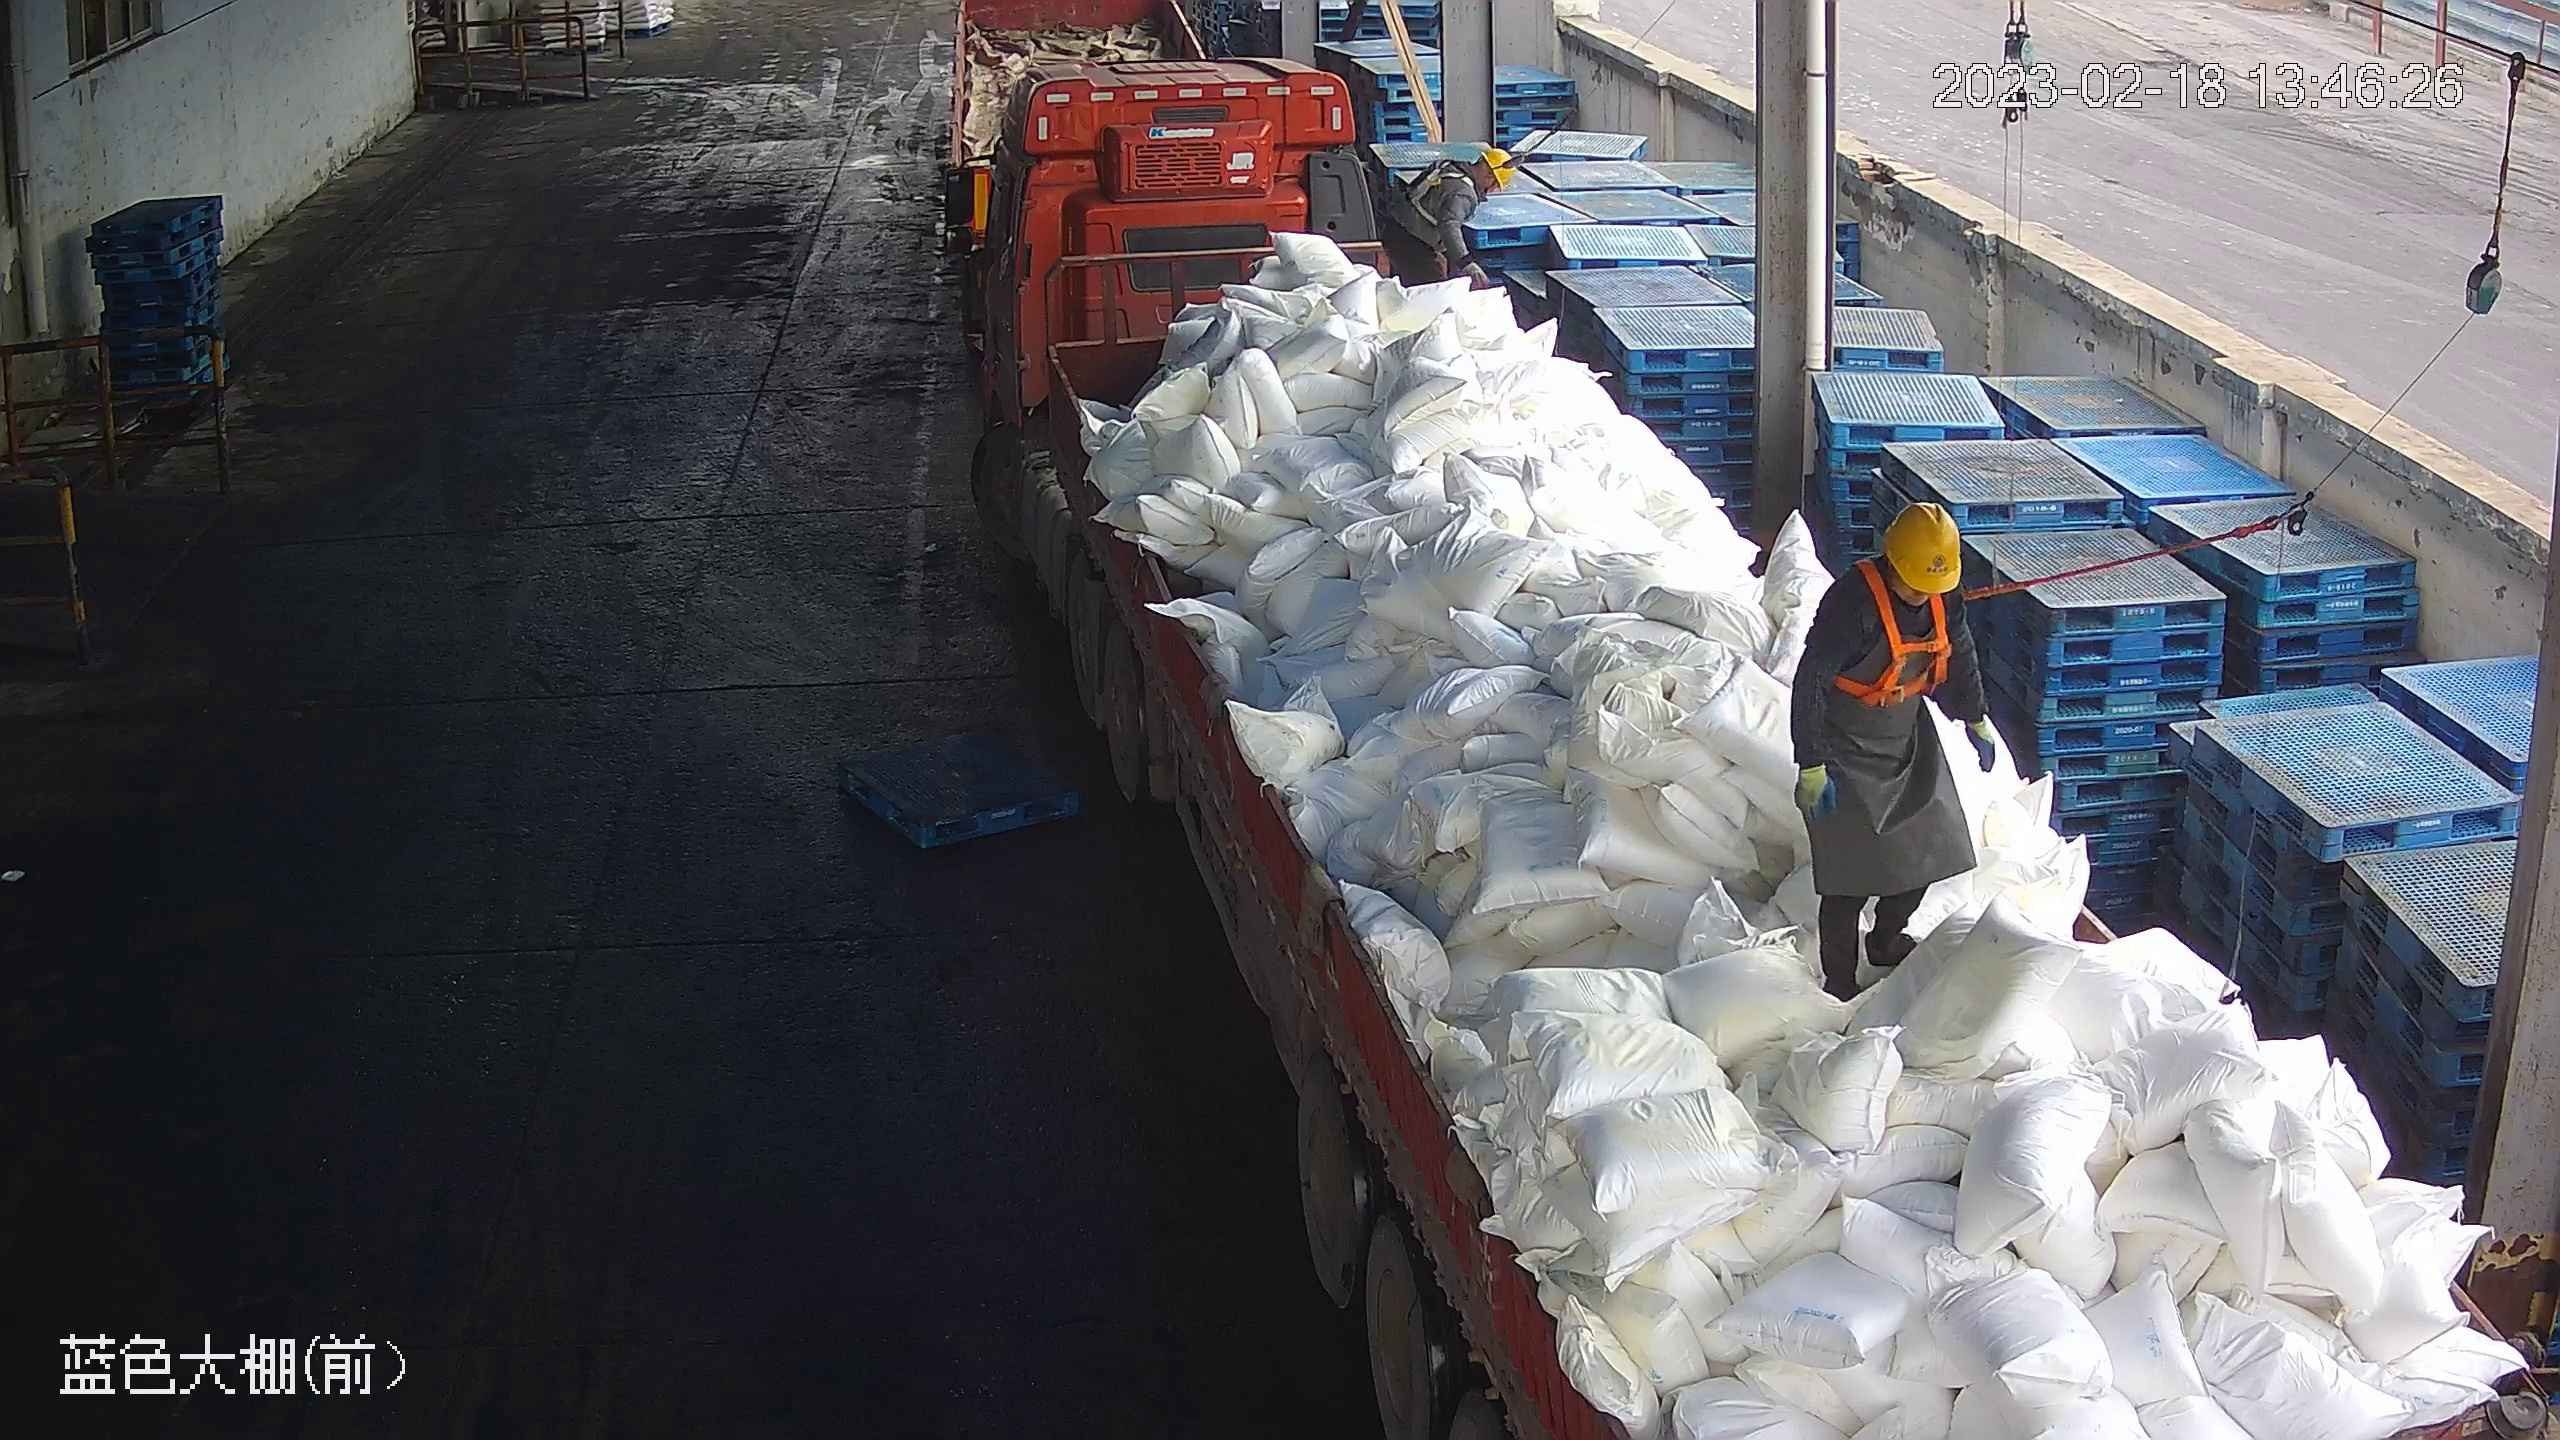belt: (1840, 556, 1978, 709), (1412, 158, 1469, 218)
head: (1808, 500, 1978, 641), (1426, 148, 1515, 213)
helmet: (1878, 500, 1966, 597), (1480, 147, 1515, 192)
people: (1784, 498, 2003, 1004), (1375, 147, 1516, 289)
truck: (935, 14, 2552, 1436)
